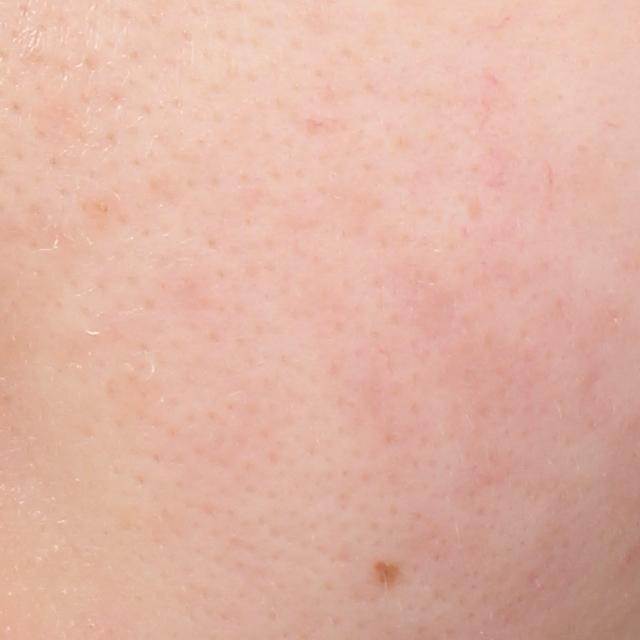nevus: (371, 559, 398, 592)
